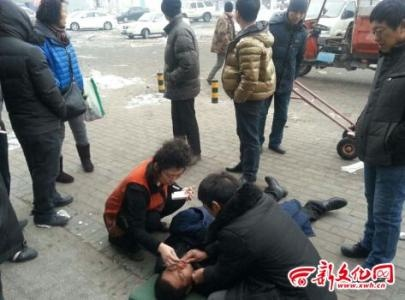falling: (175, 170, 354, 295)
